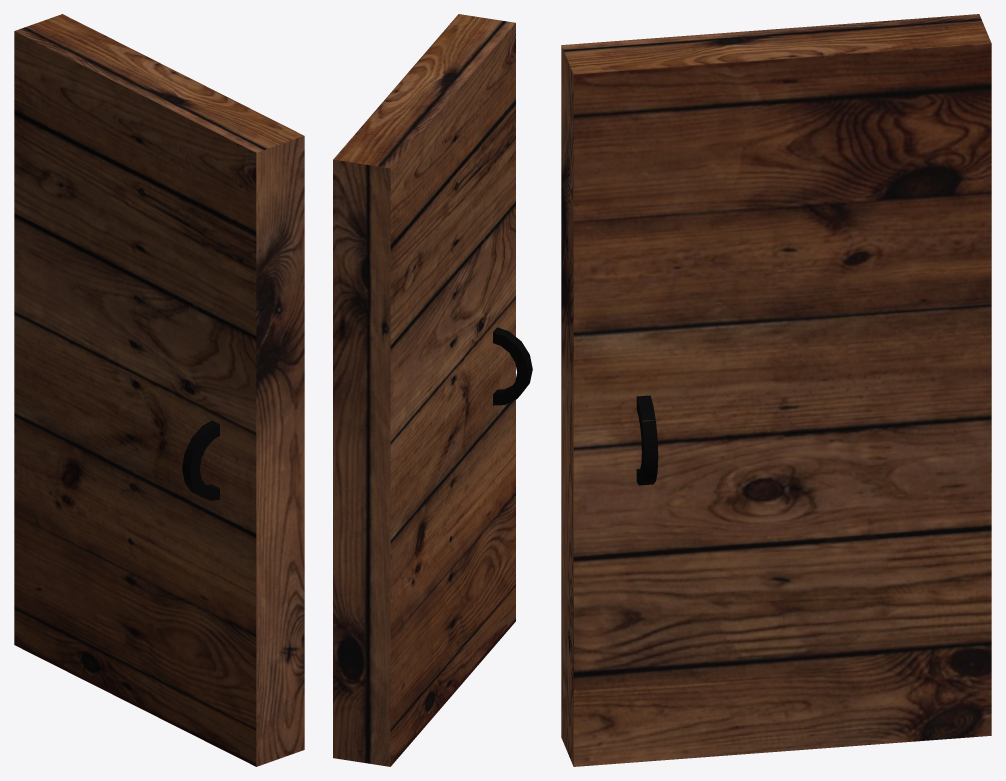
The model's file is porta.gltf.
3 views of the same model, side by side, from view 1: azimuth 30°, elevation 25°; view 2: azimuth 150°, elevation 25°; view 3: azimuth 270°, elevation 25° (orthographic). The views are drawn at different scales.
Parts seen in each view (by area): view 1: Box482_Material #181_0; view 2: Box482_Material #181_0; view 3: Box482_Material #181_0.
Part boxes in pixels (box(x1,y1,x2,y2)): Box482_Material #181_0: box(14, 14, 304, 766); Box482_Material #181_0: box(333, 14, 532, 766); Box482_Material #181_0: box(561, 14, 991, 766).
Size of the model in its own units: 62.44 by 270 by 152.
